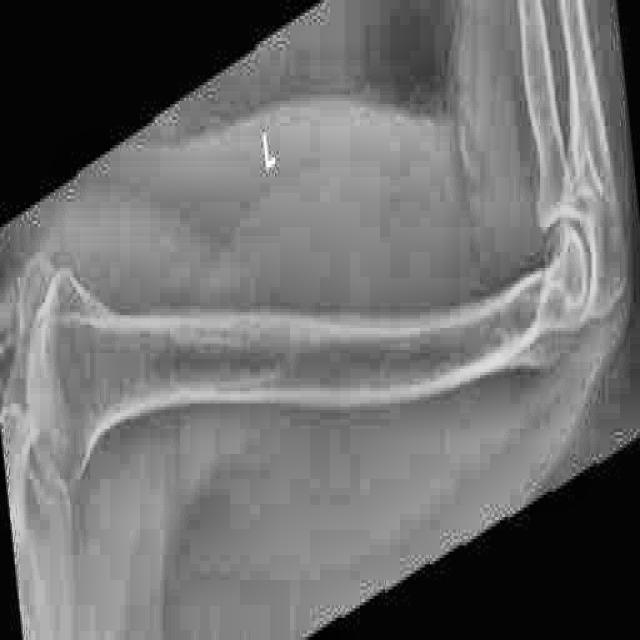humerus: (484, 301, 587, 415)
